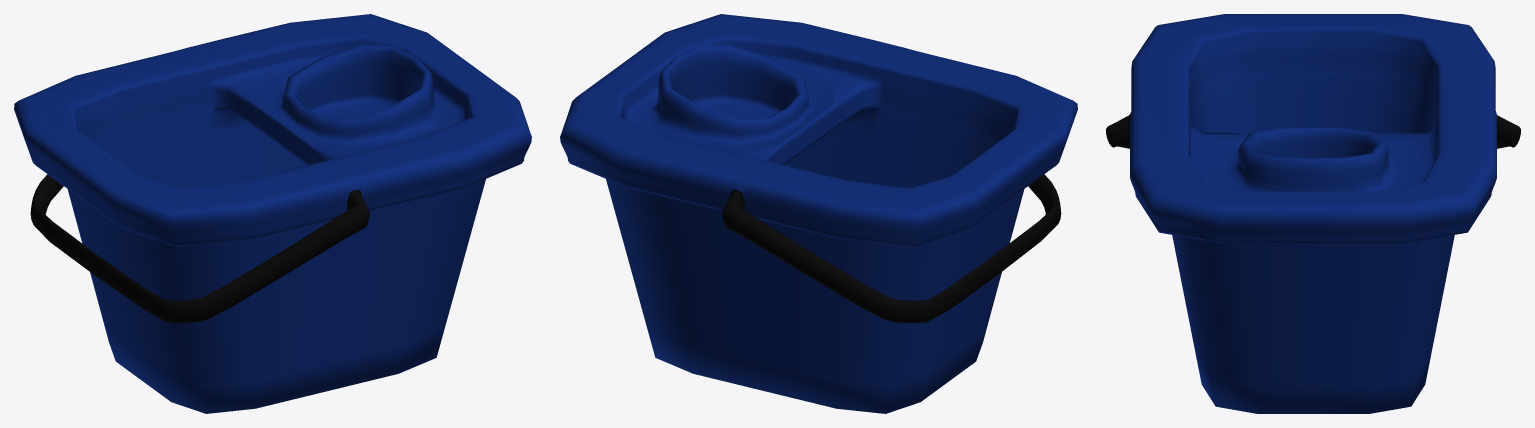
The model's file is Bucket.fbx.
The picture shows the model from 3 angles, left to right: view 1: azimuth 30°, elevation 25°; view 2: azimuth 150°, elevation 25°; view 3: azimuth 270°, elevation 25°; orthographic projection.
Parts seen in each view (by area): view 1: Bucket; view 2: Bucket; view 3: Bucket.
Part boxes in pixels (x1=…): Bucket: x1=14, y1=14, x2=531, y2=413; Bucket: x1=560, y1=14, x2=1077, y2=413; Bucket: x1=1106, y1=14, x2=1520, y2=413.
Bounding box in the file's own units: 74.57 × 46.51 × 65.57.
